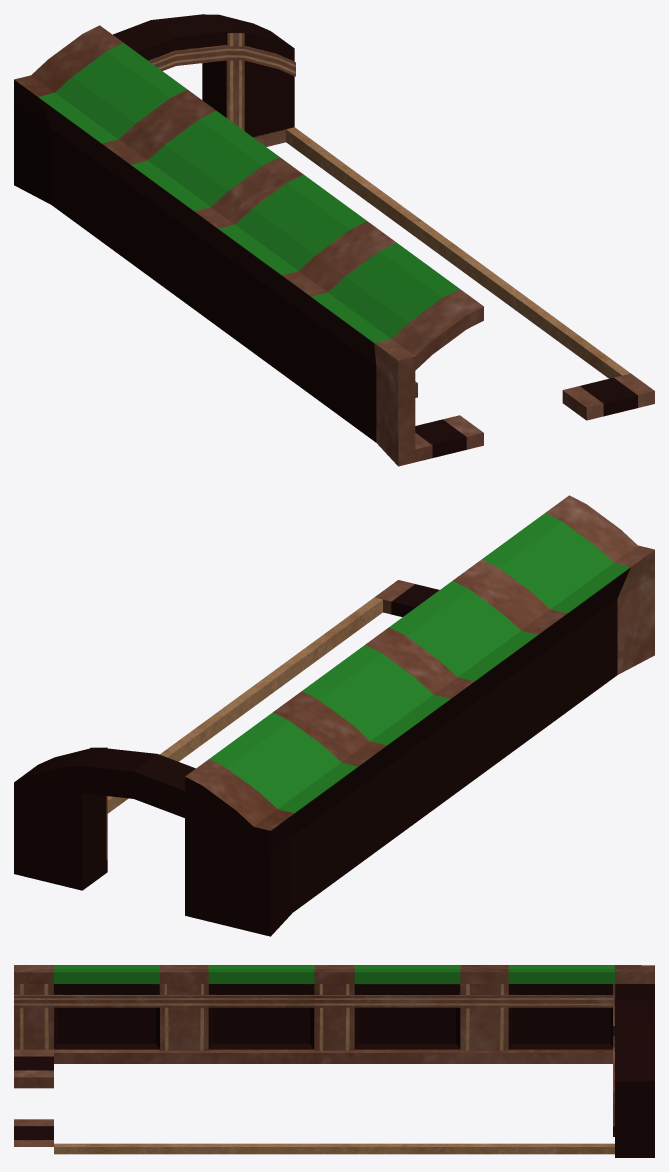
File: Wagon_Wagon_Shading.fbx
3 views of the same model, one above another, from view 1: azimuth 30°, elevation 25°; view 2: azimuth 150°, elevation 25°; view 3: azimuth 270°, elevation 25° (orthographic). The views are drawn at different scales.
Visible parts, largest first — view 1: Wagon_Wagon_NoWindows; view 2: Wagon_Wagon_NoWindows; view 3: Wagon_Wagon_NoWindows.
Part boxes in pixels (<box>): Wagon_Wagon_NoWindows: <box>14,14,654,466</box>; Wagon_Wagon_NoWindows: <box>14,495,654,936</box>; Wagon_Wagon_NoWindows: <box>14,965,654,1157</box>.
Bounding box in the file's own units: 949 × 492 × 2460.
1 material, 1 textured.
